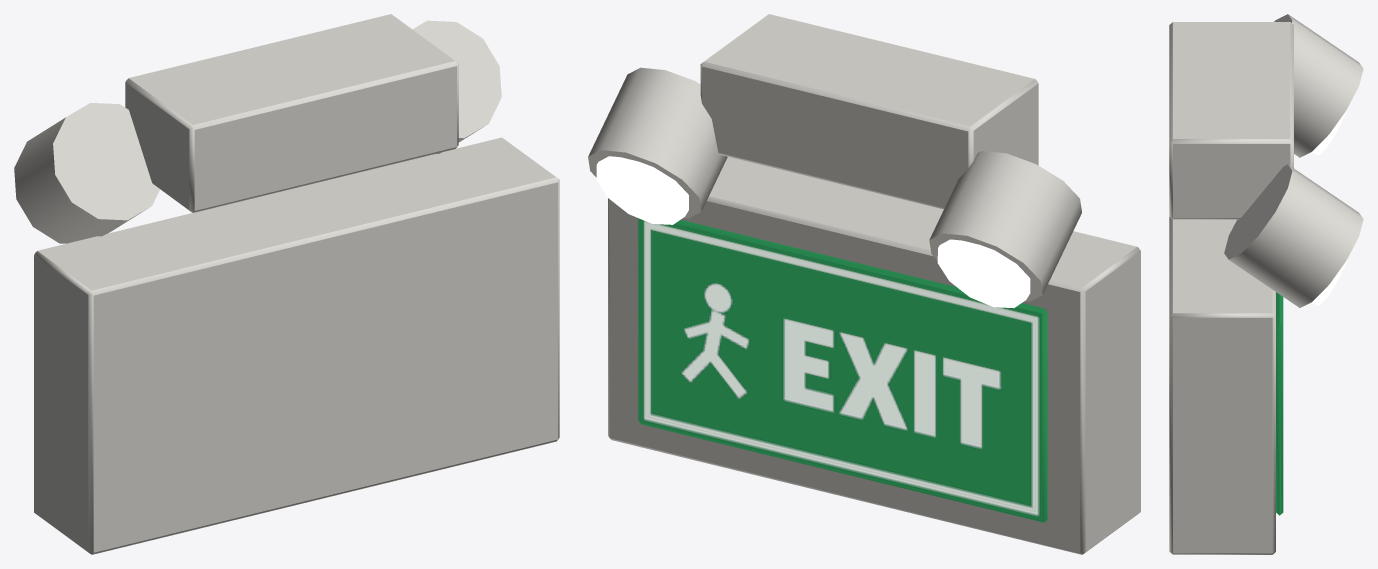
File: exit_sign.glb
The picture shows the model from 3 angles, left to right: view 1: azimuth 30°, elevation 25°; view 2: azimuth 150°, elevation 25°; view 3: azimuth 270°, elevation 25°; orthographic projection. The views are drawn at different scales.
Visible parts, largest first — view 1: exit_sign; view 2: exit_sign; view 3: exit_sign.
Part boxes in pixels (box(x1,y1,x2,y2)): exit_sign: box(14, 14, 559, 554); exit_sign: box(588, 14, 1140, 554); exit_sign: box(1169, 14, 1363, 554).
Bounding box in the file's own units: 2.8 × 2.3 × 1.09.
3 materials, 1 textured.
